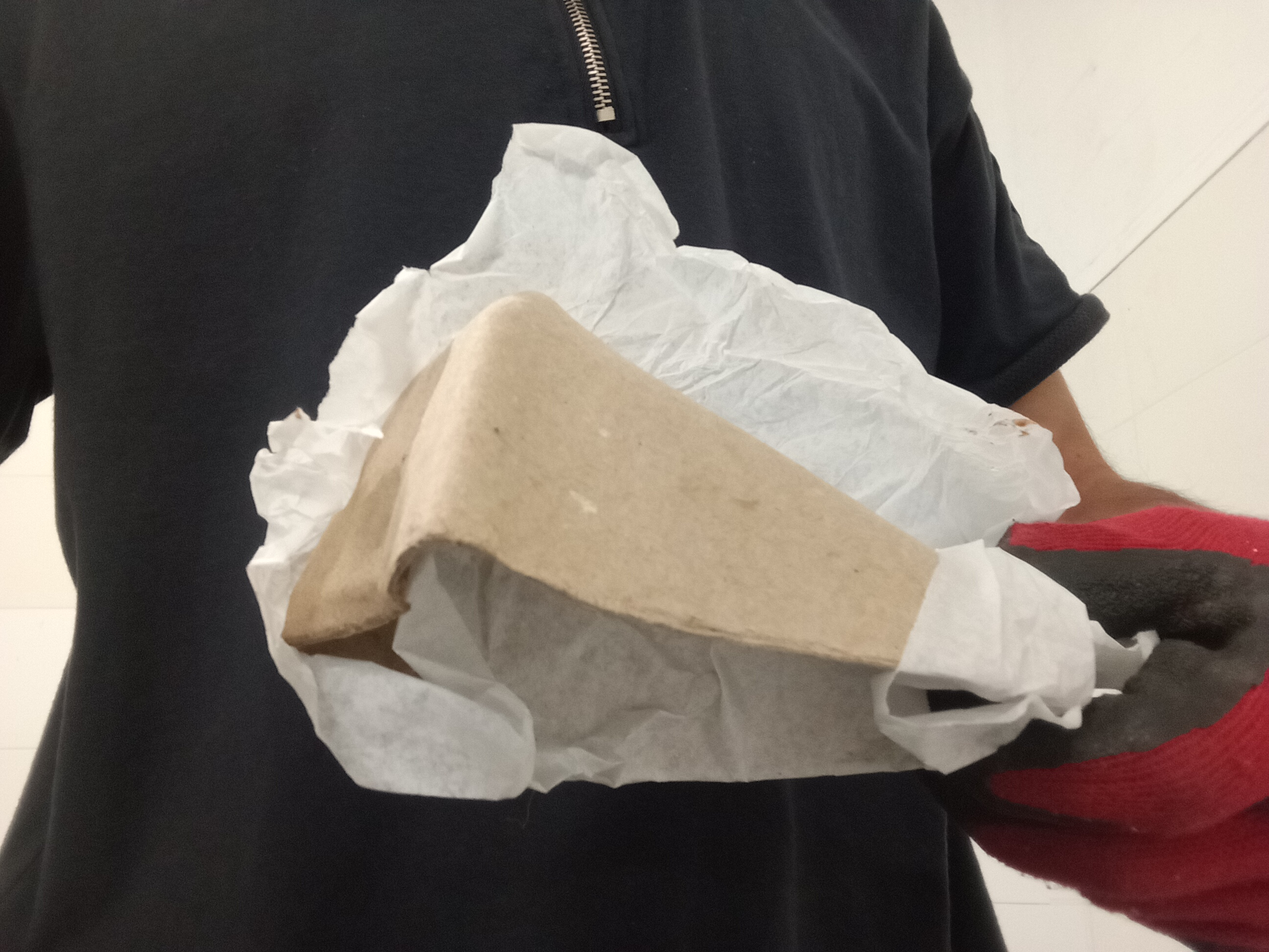Carton: (284, 289, 1100, 733)
